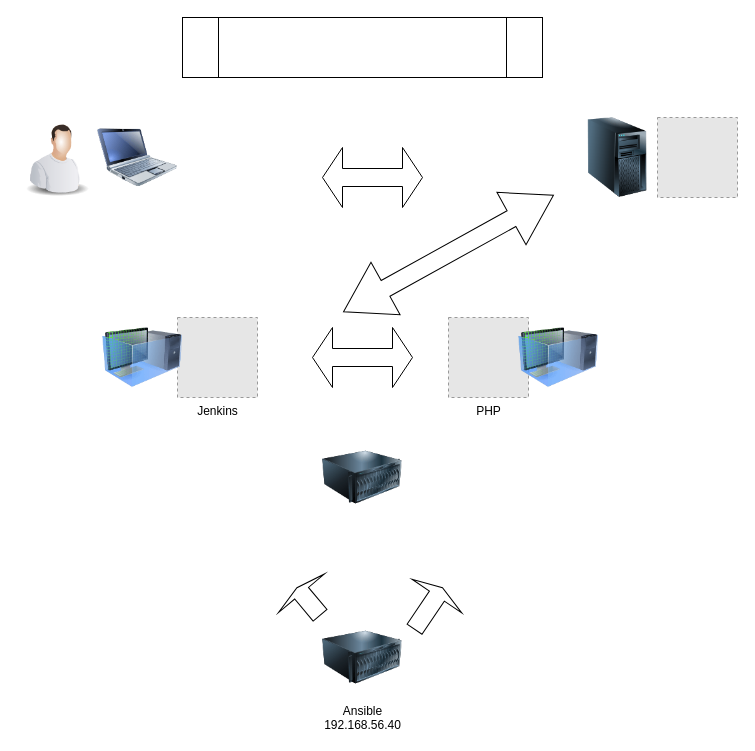
Some shapes in this 755 by 751 pixel diagram are drawn without their labels. Grey dashed boxes stand in for pictures. Each missing label, with the box of its shape:
CICD Exam: (182, 16, 542, 78)
GitHub: (577, 117, 657, 197)
